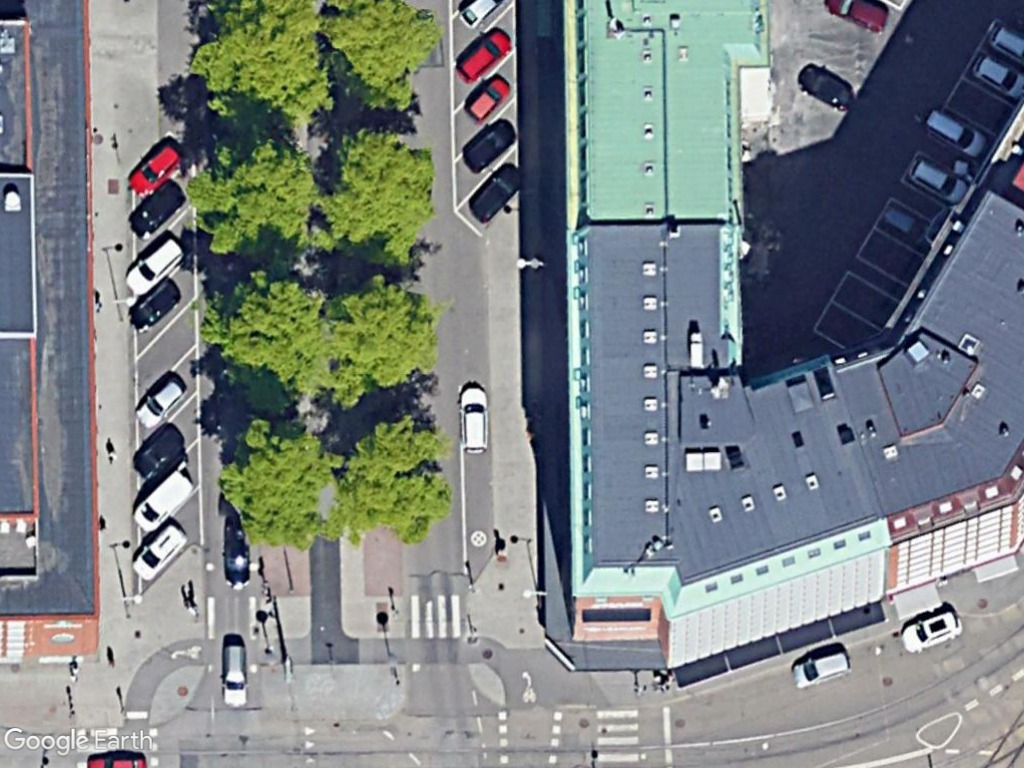car: (920, 105, 995, 163), (462, 158, 527, 223), (130, 517, 190, 586), (125, 175, 189, 239), (900, 151, 970, 209), (131, 370, 193, 432), (123, 274, 184, 337), (453, 26, 515, 86), (792, 62, 859, 115), (125, 137, 183, 198), (129, 420, 186, 480), (461, 112, 517, 173), (897, 607, 966, 656), (788, 645, 855, 694), (456, 376, 495, 459), (968, 50, 1024, 99), (217, 638, 254, 712), (462, 75, 514, 125)
van: (131, 467, 194, 539), (122, 233, 184, 299)
